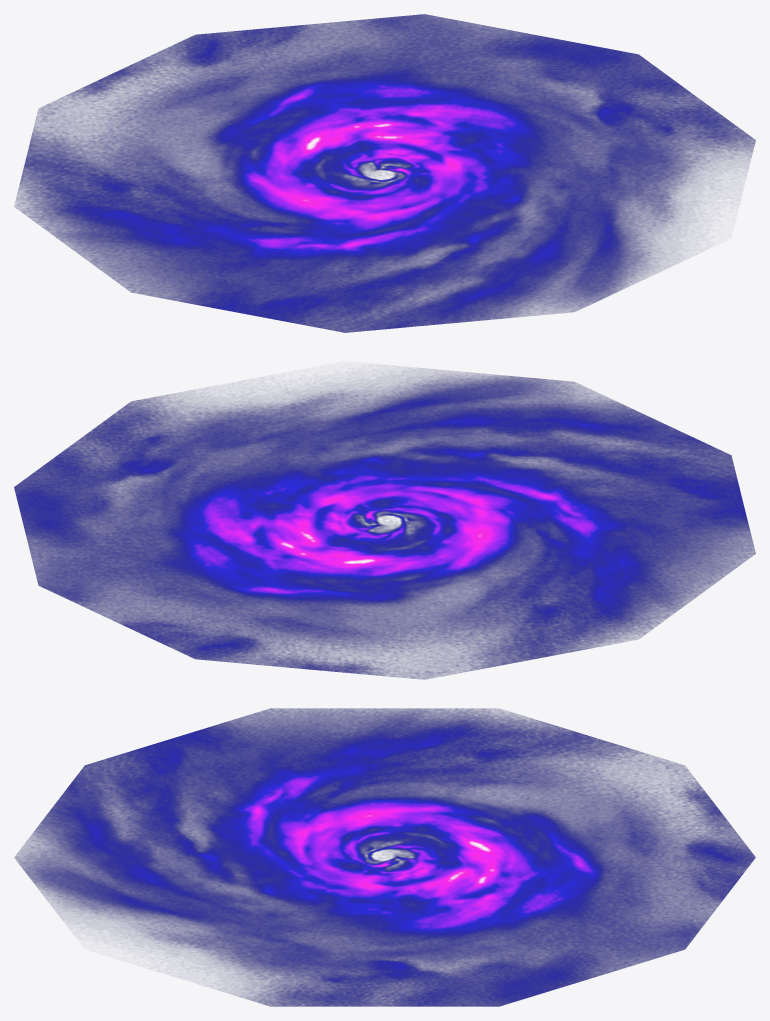
3 renders of one model, top to bottom at view 1: azimuth 30°, elevation 25°; view 2: azimuth 150°, elevation 25°; view 3: azimuth 270°, elevation 25°, orthographic. The views are drawn at different scales.
Visible parts, largest first — view 1: Cylinder.013; view 2: Cylinder.013; view 3: Cylinder.013.
Part boxes in pixels (left/top/right/bottom): Cylinder.013: left=14, top=14, right=755, bottom=332; Cylinder.013: left=14, top=368, right=755, bottom=679; Cylinder.013: left=14, top=708, right=755, bottom=1006.
Size of the model in its own units: 9.79 by 0 by 10.3.
1 material, 1 textured.
